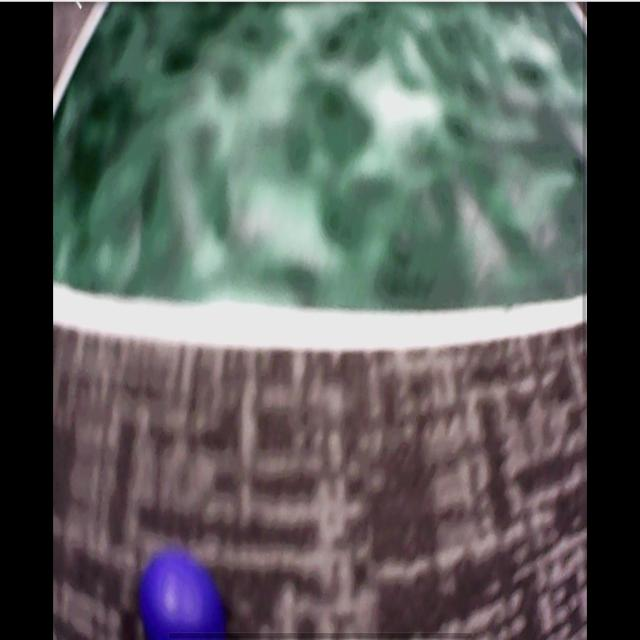ball: (140, 555, 226, 640)
